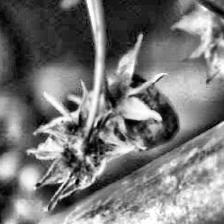Gray Mold: (32, 82, 137, 210), (95, 49, 181, 150)
